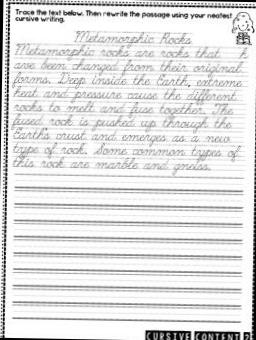text: (12, 55, 244, 80), (10, 140, 242, 164), (10, 70, 242, 93), (12, 98, 234, 122), (11, 126, 232, 150), (12, 84, 238, 107), (10, 112, 232, 135), (10, 154, 212, 177), (14, 42, 222, 60), (14, 7, 233, 20), (72, 29, 193, 51), (144, 329, 249, 340), (14, 14, 64, 24), (236, 47, 248, 59)
